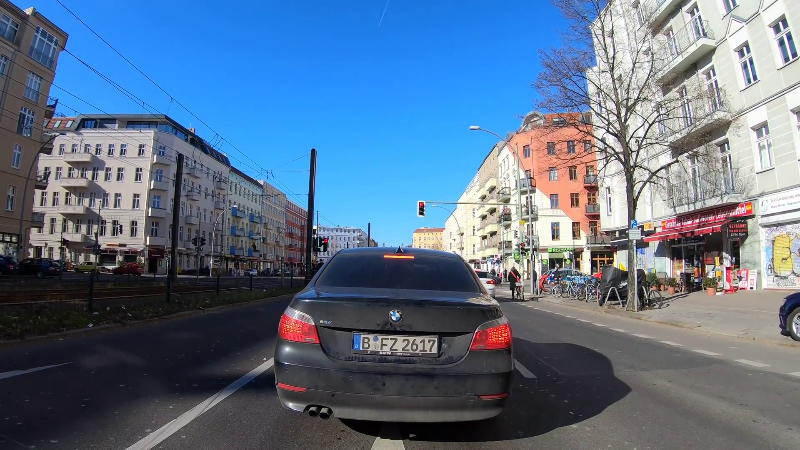Plate: (353, 333, 439, 353)
